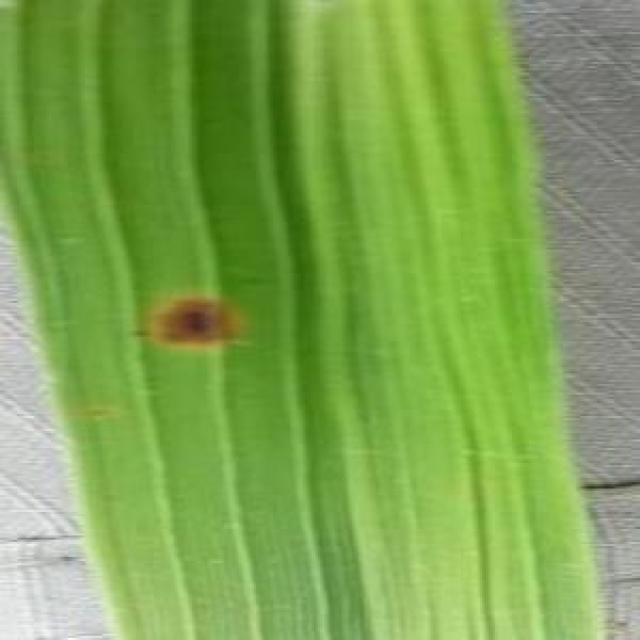Brown_Spot: (138, 287, 251, 357)
